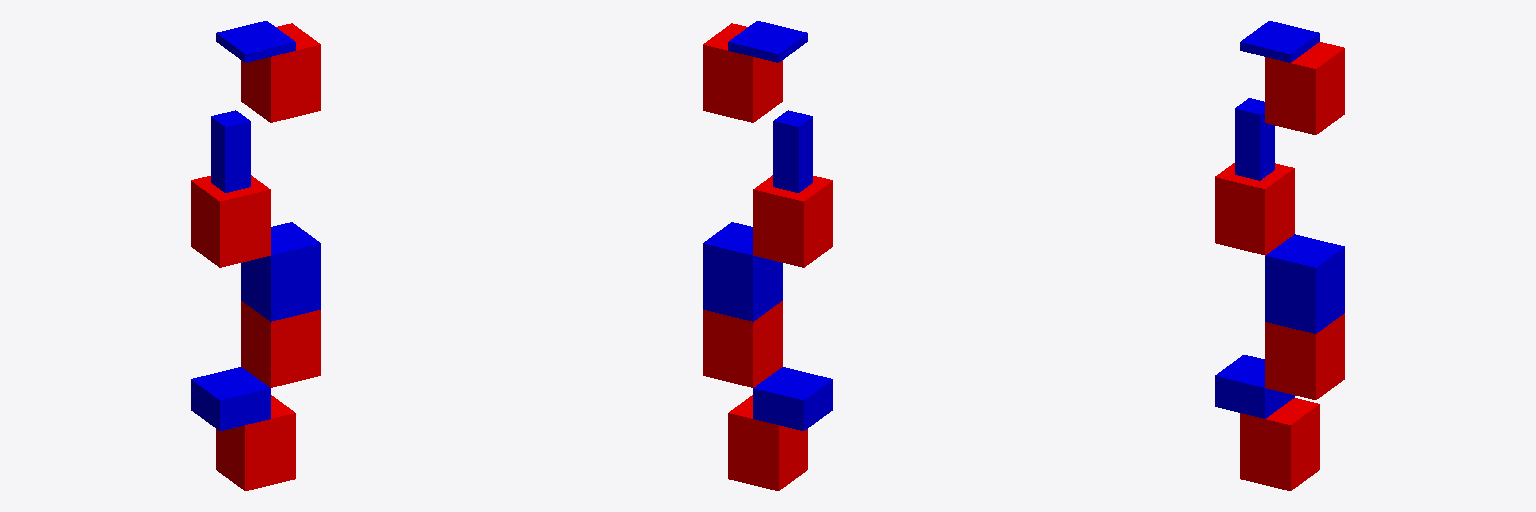
The robot description file, URDF, robot "armdemo":
<?xml version="1.0" ?>
<robot name="armdemo">

  <material name="red">
    <color rgba="1.0 0.0 0.0 1.0"/>
  </material>
  <material name="green">
    <color rgba="0.0 1.0 0.0 1.0"/>
  </material>
  <material name="blue">
    <color rgba="0.0 0.0 1.0 1.0"/>
  </material>

  <!-- base(world) -->
  <link name="base_link"/>
  
  <!-- base joint  -->
  <joint name="base_joint" type="fixed">
    <parent link="base_link"/>
    <child link="link1"/>
  </joint>
 
  <!-- Link1 link & joint -->
  <link name="link1">
    <collision>
      <origin rpy="0 0 0" xyz="0 0 0.075"/>
      <geometry>
        <box size="0.12 0.12 0.15"/>
      </geometry>
    </collision>
    <visual>
      <origin rpy="0 0 0" xyz="0 0 0.075"/>
      <geometry>
        <box size="0.12 0.12 0.15"/>
      </geometry>
      <material name="red"/>
    </visual>
    <inertial>
      <origin rpy="0 0 0" xyz="0 0 0"/>
      <mass value="50"/>
      <inertia ixx="0" ixy="0.1" ixz="0.0" iyy="1" iyz="0.0" izz="0.1"/>
    </inertial>
  </link>
   <joint name="joint1" type="revolute">
    <parent link="link1"/>
    <child link="link2"/>
    <origin rpy="0 0 0" xyz="0 0 0.15"/>
   
    <axis xyz="0 0 1"/>
    <dynamics damping="0.05"/>
    <limit effort="30" lower="-3" upper="3" velocity="2"/>
  </joint>
  
  <!-- Link2 link & joint -->
  <link name="link2">
    <collision>
      <origin rpy="0 0 0" xyz="-0.06 0 0.035"/>
      <geometry>
        <box size="0.12 0.12 0.07"/>
      </geometry>
    </collision>
    <visual>
      <origin rpy="0 0 0" xyz="-0.06 0 0.035"/>
      <geometry>
        <box size="0.12 0.12 0.07"/>
      </geometry>
      <material name="blue"/>
    </visual>
    <inertial>
      <origin rpy="0 0 0" xyz="0 0 0.1"/>
      <mass value="0.1"/>
      <inertia ixx="0.01" ixy="0.0" ixz="0.0" iyy="0.01" iyz="0.0" izz="0.01"/>
    </inertial>
  </link>
  <!-- joint2 -->
  <joint name="joint2" type="revolute">
    <parent link="link2"/>
    <child link="link3"/>
    <origin rpy="0 0 0" xyz="0 0 0.07"/>
   
    <axis xyz="1 0 0"/>
    <dynamics damping="0.05"/>
    <limit effort="30" lower="-1.6" upper="1.6" velocity="2"/>
  </joint>
  
  <!-- Link3 link & joint -->
 
  <link name="link3">
    <collision>
      <origin rpy="0 0 0" xyz="0.06 0 0.075"/>
      <geometry>
        <box size="0.12 0.12 0.15"/>
      </geometry>
    </collision>
    <visual>
      <origin rpy="0 0 0" xyz="0.06 0 0.075"/>
      <geometry>
        <box size="0.12 0.12 0.15"/>
      </geometry>
      <material name="red"/>
    </visual>
    <inertial>
      <origin rpy="0 0 0" xyz="0.06 0 0.1"/>
      <mass value="0.1"/>
       <inertia ixx="0.01" ixy="0.0" ixz="0.0" iyy="0.01" iyz="0.0" izz="0.01"/>
    </inertial>
  </link>
  <!-- joint3 -->
  <joint name="joint3" type="revolute">
    <parent link="link3"/>
    <child link="link4"/>
    <origin rpy="0 0 0" xyz="0 0 0.15"/>

    <axis xyz="0 0 1"/>
    <dynamics damping="0.1"/>
    <limit effort="30" lower="-3" upper="3" velocity="2"/>
  </joint>

  <!-- Link4 link & joint -->
 
  <link name="link4">
    <collision>
      <origin rpy="0 0 0" xyz="0.06 0 0.075"/>
      <geometry>
        <box size="0.12 0.12 0.15"/>
      </geometry>
    </collision>
    <visual>
      <origin rpy="0 0 0" xyz="0.06 0 0.075"/>
      <geometry>
        <box size="0.12 0.12 0.15"/>
      </geometry>
      <material name="blue"/>
    </visual>
    <inertial>
      <origin rpy="0 0 0" xyz="0 0 0.1"/>
      <mass value="0.1"/>
       <inertia ixx="0.01" ixy="0.0" ixz="0.0" iyy="0.01" iyz="0.0" izz="0.01"/>
    </inertial>
  </link>
  <joint name="joint4" type="revolute">
    <parent link="link4"/>
    <child link="link5"/>
    <origin rpy="0 0 0" xyz="0 0 0.15"/>
 
    <axis xyz="1 0 0"/>
    <dynamics damping="0.1"/>
    <limit effort="30" lower="-3" upper="3" velocity="2"/>
  </joint>

  <!-- Link5 link & joint -->
  <link name="link5">
        <collision>
      <origin rpy="0 0 0" xyz="-0.06 0 0.075"/>
      <geometry>
        <box size="0.12 0.12 0.15"/>
      </geometry>
    </collision>
    <visual>
      <origin rpy="0 0 0" xyz="-0.06 0 0.075"/>
      <geometry>
        <box size="0.12 0.12 0.15"/>
      </geometry>
      <material name="red"/>
    </visual>
    <inertial>
      <origin rpy="0 0 0" xyz="0 0 0.1"/>
      <mass value="0.1"/>
       <inertia ixx="0.01" ixy="0.0" ixz="0.0" iyy="0.01" iyz="0.0" izz="0.01"/>
    </inertial>
  </link>
  <joint name="joint5" type="revolute">
    <parent link="link5"/>
    <child link="link6"/>
    <origin rpy="0 0 0" xyz="0 0 0.15"/>
 
    <axis xyz="0 0 1"/>
    <dynamics damping="0.1"/>
    <limit effort="30" lower="-2.25" upper="2.25" velocity="2"/>
  </joint>
  
  <!-- Link6 link & joint -->
  
  <link name="link6">
    <collision>
      <origin rpy="0 0 0" xyz="-0.06 0 0.075"/>
      <geometry>
        <box size="0.06 0.06 0.15"/>
      </geometry>
    </collision>
    <visual>
      <origin rpy="0 0 0" xyz="-0.06 0 0.075"/>
      <geometry>
        <box size="0.06 0.06 0.15"/>
      </geometry>
      <material name="blue"/>
    </visual>
    <inertial>
      <origin rpy="0 0 0" xyz="0 0 0.1"/>
      <mass value="0.1"/>
       <inertia ixx="0.01" ixy="0.0" ixz="0.0" iyy="0.01" iyz="0.0" izz="0.01"/>
    </inertial>
  </link>
  <joint name="joint6" type="revolute">
    <parent link="link6"/>
    <child link="link7"/>
    <origin rpy="0 0 0" xyz="0 0 0.15"/>
    <axis xyz="1 0 0"/>
    <dynamics damping="0.1"/>
    <limit effort="30" lower="-3" upper="3" velocity="2"/>
  </joint>

  <!-- Link7 link & joint -->
  <link name="link7">
    <collision>
      <origin rpy="0 0 0" xyz="0.06 0 0.075"/>
      <geometry>
        <box size="0.12 0.12 0.15"/>
      </geometry>
    </collision>
    <visual>
      <origin rpy="0 0 0" xyz="0.06 0 0.075"/>
      <geometry>
        <box size="0.12 0.12 0.15"/>
      </geometry>
      <material name="red"/>
    </visual>
    <inertial>
      <origin rpy="0 0 0" xyz="0 0 0.1"/>
      <mass value="0.1"/>
       <inertia ixx="0.01" ixy="0.0" ixz="0.0" iyy="0.01" iyz="0.0" izz="0.01"/>
    </inertial>
  </link>
  <joint name="joint7" type="revolute">
    <parent link="link7"/>
    <child link="link8"/>
    <origin rpy="0 0 0" xyz="0 0 0.15"/>
    <axis xyz="0 0 1"/>
    <dynamics damping="0.1"/>
    <limit effort="30" lower="-3" upper="3" velocity="2"/>
  </joint>

 <!-- Link8 (end effector)-->
  <link name="link8">
    <collision>
      <origin rpy="0 0 0" xyz="0 0 0.01"/>
      <geometry>
        <box size="0.12 0.12 0.02"/>
      </geometry>
    </collision>
    <visual>
      <origin rpy="0 0 0" xyz="0 0 0.01"/>
      <geometry>
        <box size="0.12 0.12 0.02"/>
      </geometry>
      <material name="blue"/>
    </visual>
    <inertial>
      <origin rpy="0 0 0" xyz="0 0 0.01"/>
      <mass value="0.1"/>
        <inertia ixx="0.01" ixy="0.0" ixz="0.0" iyy="0.01" iyz="0.0" izz="0.01"/>
    </inertial>
  </link>

  <transmission name="link1_trans">
    <type>transmission_interface/SimpleTransmission</type>
      <joint name="joint1">
      <hardwareInterface>hardware_interface/EffortJointInterface</hardwareInterface>
    </joint>
    <actuator name="link1_motor">
      <hardwareInterface>hardware_interface/EffortJointInterface</hardwareInterface>
      <mechanicalReduction>1</mechanicalReduction>
    </actuator>
  </transmission>
  <transmission name="link2_trans">
    <type>transmission_interface/SimpleTransmission</type>
      <joint name="joint2">
      <hardwareInterface>hardware_interface/EffortJointInterface</hardwareInterface>
    </joint>
    <actuator name="link2_motor">
      <hardwareInterface>hardware_interface/EffortJointInterface</hardwareInterface>
      <mechanicalReduction>1</mechanicalReduction>
    </actuator>
  </transmission>
  <transmission name="link3_trans">
    <type>transmission_interface/SimpleTransmission</type>
      <joint name="joint3">
      <hardwareInterface>hardware_interface/EffortJointInterface</hardwareInterface>
    </joint>
    <actuator name="link3_motor">
      <hardwareInterface>hardware_interface/EffortJointInterface</hardwareInterface>
      <mechanicalReduction>1</mechanicalReduction>
    </actuator>
  </transmission>
  <transmission name="link4_trans">
    <type>transmission_interface/SimpleTransmission</type>
      <joint name="joint4">
      <hardwareInterface>hardware_interface/EffortJointInterface</hardwareInterface>
    </joint>
    <actuator name="link4_motor">
      <hardwareInterface>hardware_interface/EffortJointInterface</hardwareInterface>
      <mechanicalReduction>1</mechanicalReduction>
    </actuator>
  </transmission>
  <transmission name="link5_trans">
    <type>transmission_interface/SimpleTransmission</type>
      <joint name="joint5">
      <hardwareInterface>hardware_interface/EffortJointInterface</hardwareInterface>
    </joint>
    <actuator name="link5_motor">
      <hardwareInterface>hardware_interface/EffortJointInterface</hardwareInterface>
      <mechanicalReduction>1</mechanicalReduction>
    </actuator>
  </transmission>
  <transmission name="link6_trans">
    <type>transmission_interface/SimpleTransmission</type>
      <joint name="joint6">
      <hardwareInterface>hardware_interface/EffortJointInterface</hardwareInterface>
    </joint>
    <actuator name="link6_motor">
      <hardwareInterface>hardware_interface/EffortJointInterface</hardwareInterface>
      <mechanicalReduction>1</mechanicalReduction>
    </actuator>
  </transmission>
  <transmission name="link7_trans">
    <type>transmission_interface/SimpleTransmission</type>
      <joint name="joint7">
      <hardwareInterface>hardware_interface/EffortJointInterface</hardwareInterface>
    </joint>
    <actuator name="link7_motor">
      <hardwareInterface>hardware_interface/EffortJointInterface</hardwareInterface>
      <mechanicalReduction>1</mechanicalReduction>
    </actuator>
  </transmission>
  <gazebo>
    <plugin name="gazebo_ros_control" filename="libgazebo_ros_control.so">
      <robotNamespace>/</robotNamespace>
      <robotSimType>gazebo_ros_control/DefaultRobotHWSim</robotSimType>
      <legacyModeNS>true</legacyModeNS>
    </plugin>
  </gazebo>

</robot>

--- What the picture shows (computed from the rendered views, not written in the file) ---
Views: 3 orthographic renders of the robot side by side, from view 1: azimuth 30°, elevation 25°; view 2: azimuth 150°, elevation 25°; view 3: azimuth 330°, elevation 25°.
Robot: armdemo — 9 links, 8 joints (7 revolute, 1 fixed); root link base_link; default pose: every joint at zero.
Visible links, largest first — view 1: link5, link4, link7, link3, link1, link2, link6, link8; view 2: link5, link4, link7, link3, link1, link2, link6, link8; view 3: link4, link5, link7, link1, link3, link2, link6, link8.
Link boxes in pixels (x1=…): link5: x1=191, y1=175, x2=270, y2=267; link4: x1=241, y1=222, x2=320, y2=321; link7: x1=241, y1=23, x2=320, y2=122; link3: x1=241, y1=301, x2=320, y2=387; link1: x1=216, y1=395, x2=295, y2=490; link2: x1=191, y1=367, x2=270, y2=430; link6: x1=211, y1=110, x2=250, y2=192; link8: x1=216, y1=21, x2=295, y2=62; link5: x1=753, y1=175, x2=832, y2=267; link4: x1=703, y1=222, x2=782, y2=321; link7: x1=703, y1=23, x2=782, y2=122; link3: x1=703, y1=301, x2=782, y2=387; link1: x1=728, y1=395, x2=807, y2=490; link2: x1=753, y1=367, x2=832, y2=430; link6: x1=773, y1=110, x2=812, y2=192; link8: x1=728, y1=21, x2=807, y2=62; link4: x1=1265, y1=234, x2=1344, y2=333; link5: x1=1215, y1=163, x2=1294, y2=255; link7: x1=1265, y1=42, x2=1344, y2=134; link1: x1=1240, y1=398, x2=1319, y2=490; link3: x1=1265, y1=313, x2=1344, y2=399; link2: x1=1215, y1=355, x2=1294, y2=418; link6: x1=1235, y1=98, x2=1274, y2=180; link8: x1=1240, y1=21, x2=1319, y2=62.
Size in the robot's own frame: 0.24 by 0.12 by 0.99 metres.
Geometry: primitives only (box / cylinder / sphere), no mesh files.